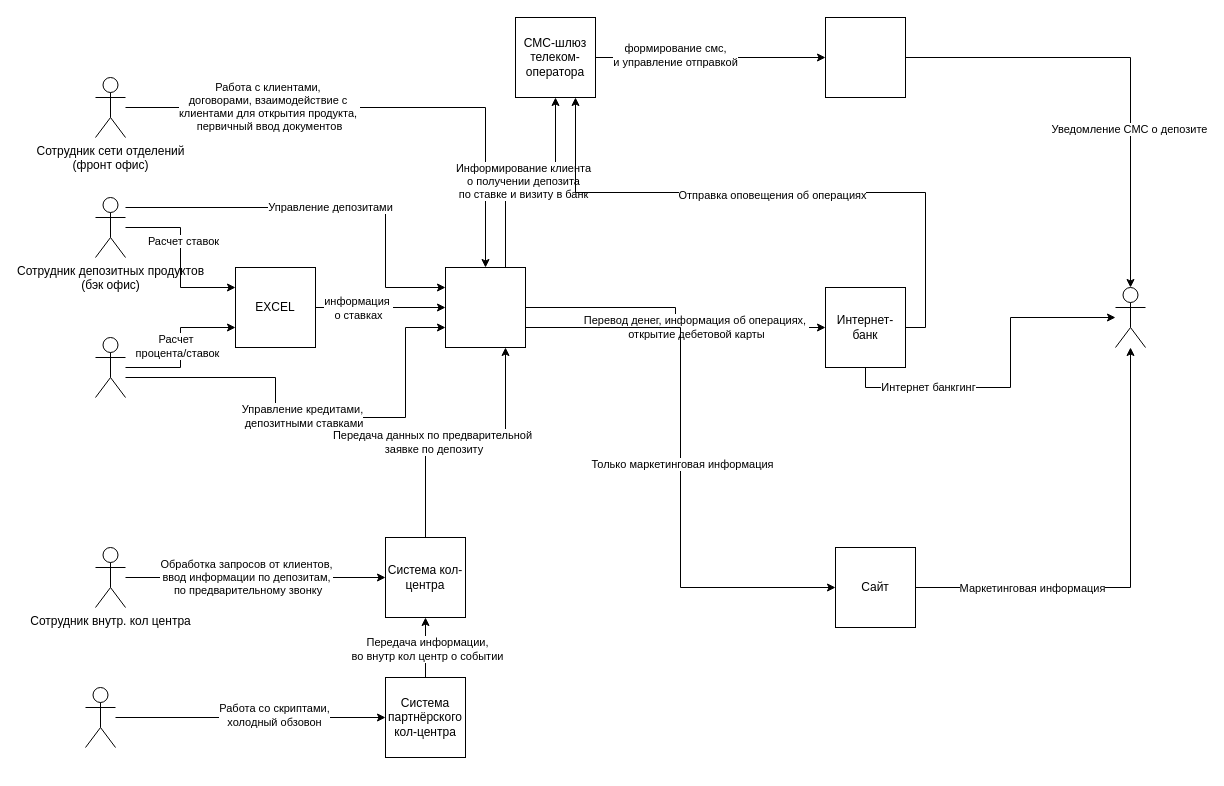
Some shapes in this 1224 by 786 pixel diagram are drawn without their labels. The box of each missing label's shape, as (x1, y1, x2, y2) in pixels:
АБС: (444, 266, 526, 348)
клиент: (1114, 286, 1146, 348)
Сотрудник внеш. кол центра: (84, 686, 116, 748)
Сотрудник кредитных продуктов (бэк офис): (94, 336, 126, 398)
Телеком-оператор: (824, 16, 906, 98)
